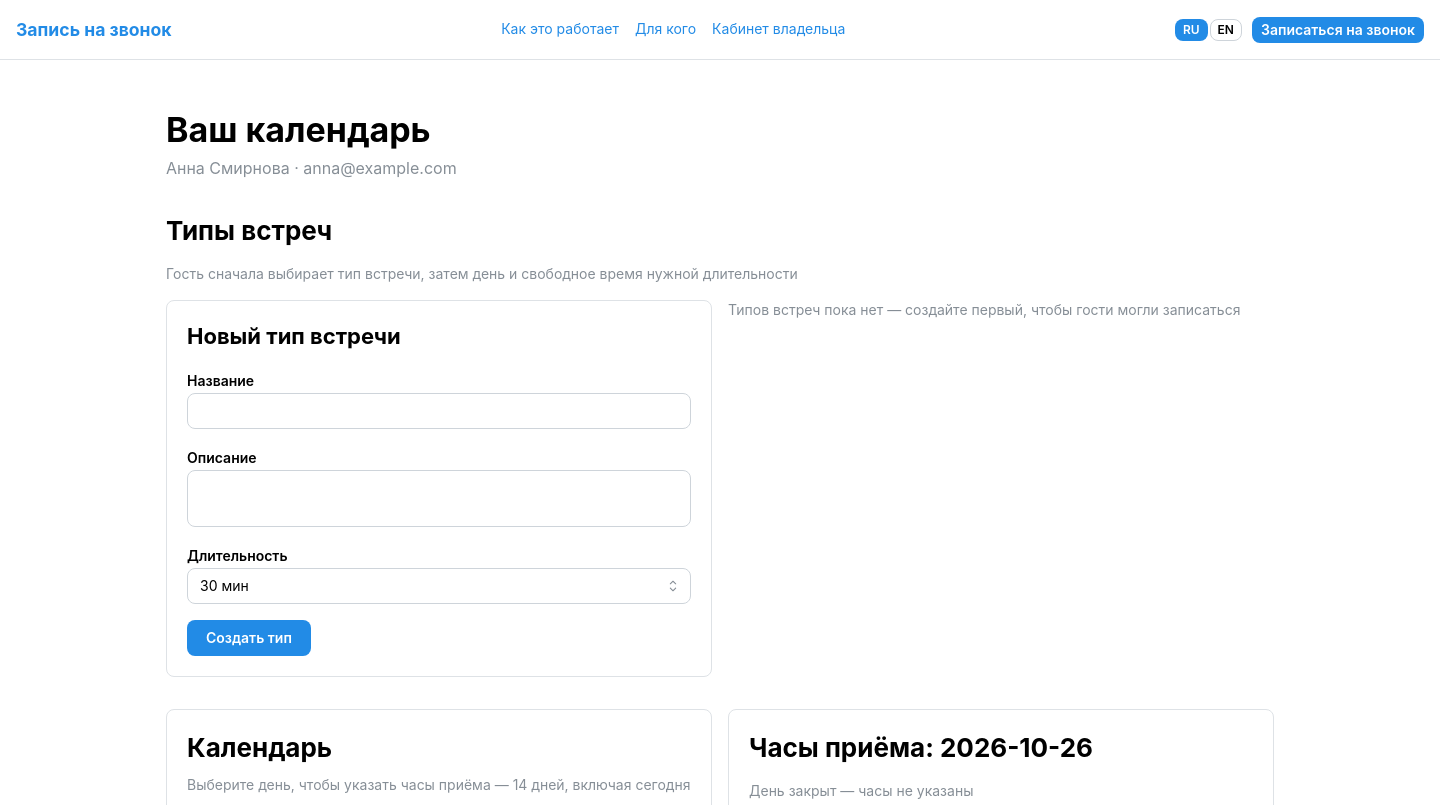
Scenario: переключатель языка на каждой странице › /owner: RU/EN переключают язык страницы
Click the button "EN". click: (1226, 30)
box: left=1210, top=18, right=1242, bottom=40
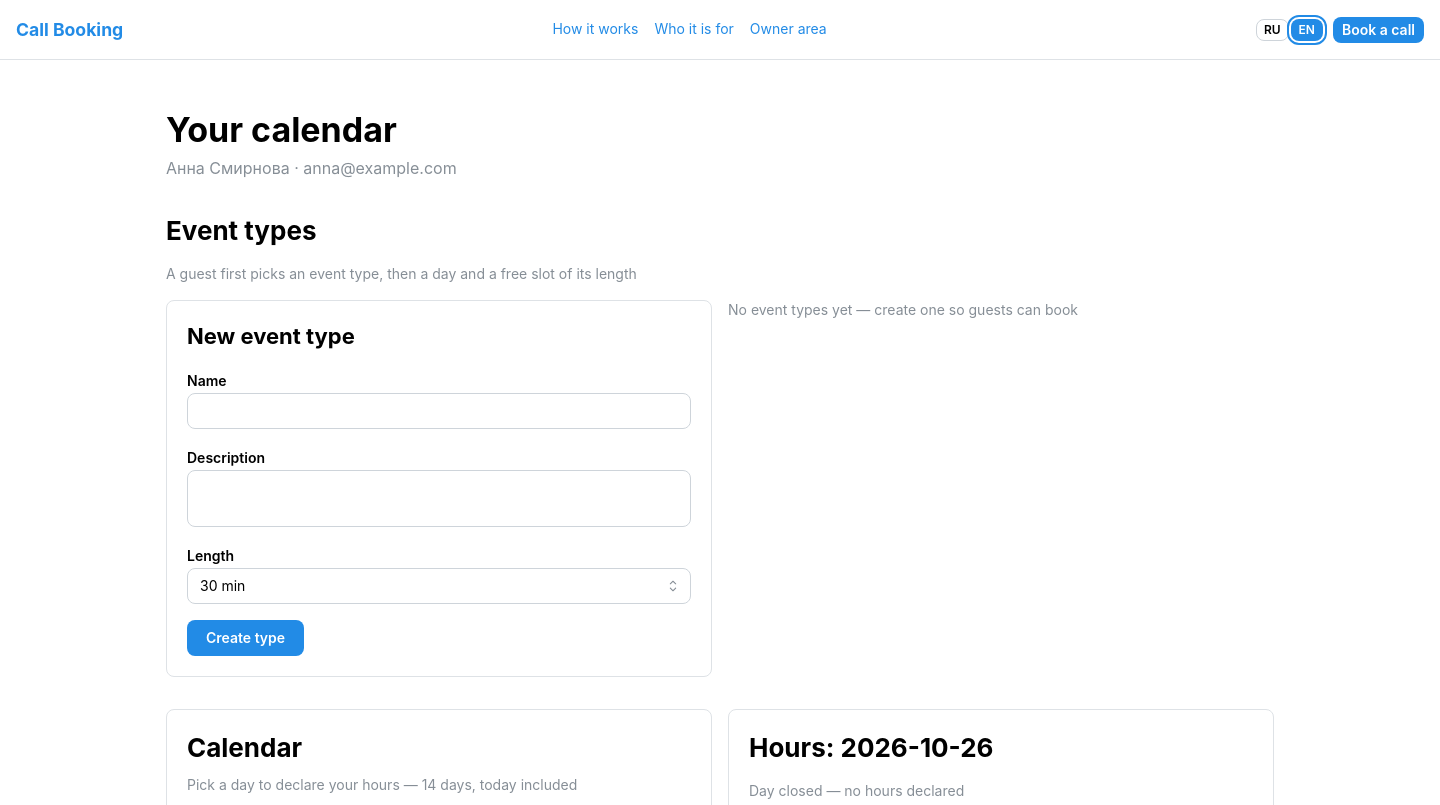
Now the heading "Your calendar" is shown, box left=166, top=109, right=397, bottom=150
